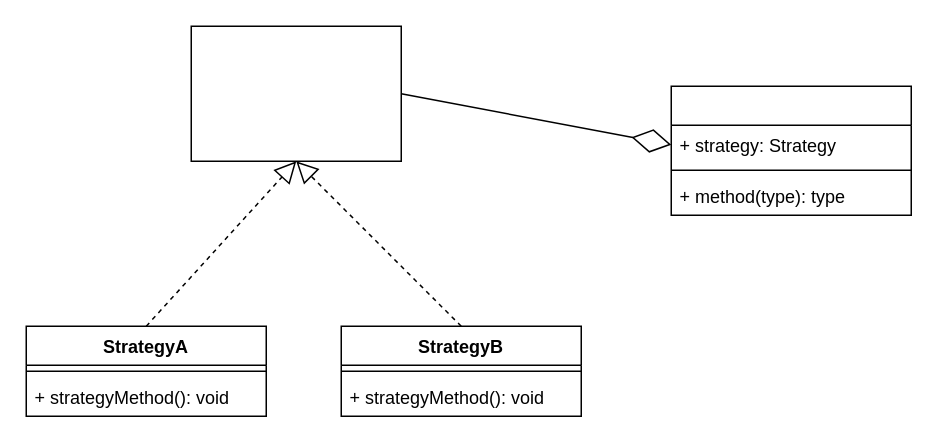
This 938x447 diagram has some shape labels left out. Each missing label, with the box of its shape:
<<Interface>> Strategy +strategyMethod(): void: (190, 25, 401, 161)
Client: (670, 85, 911, 215)
